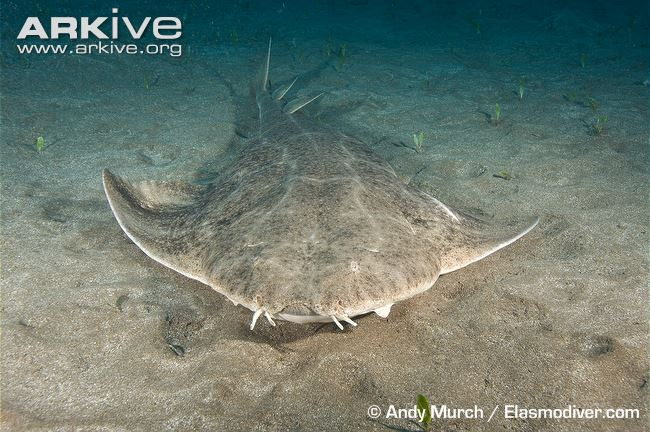shark: (81, 30, 579, 339)
